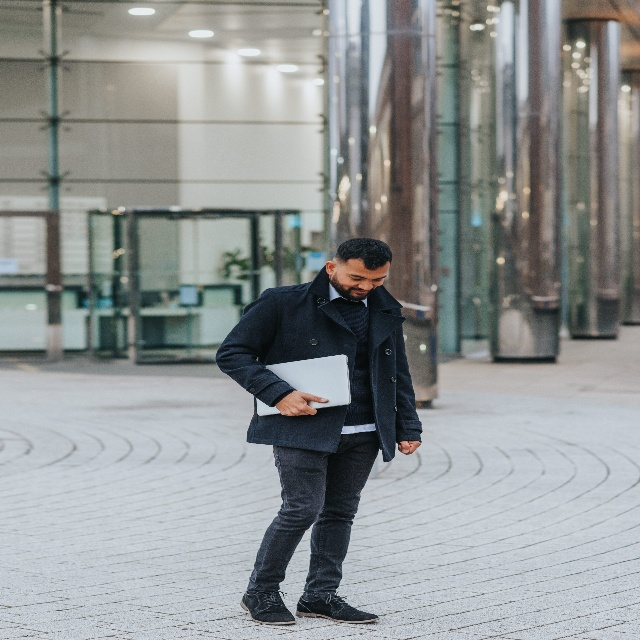Sin_guantes: (278, 384, 329, 417), (398, 438, 420, 459)
